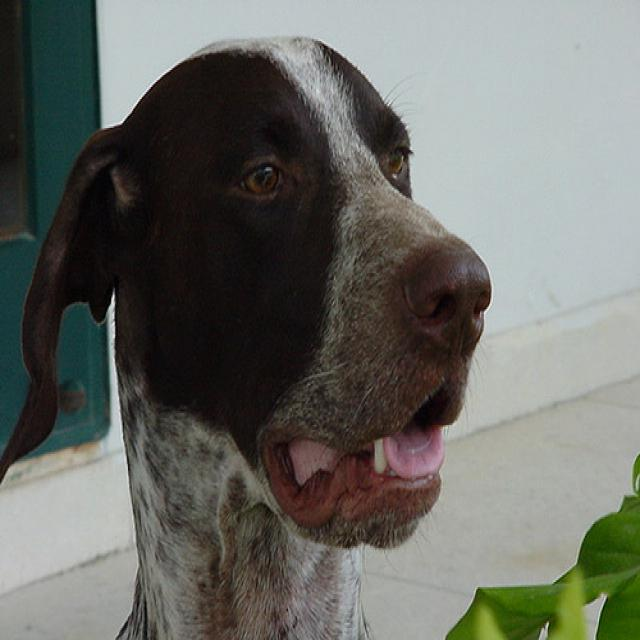dog-german_shorthaired: (1, 29, 495, 637)
